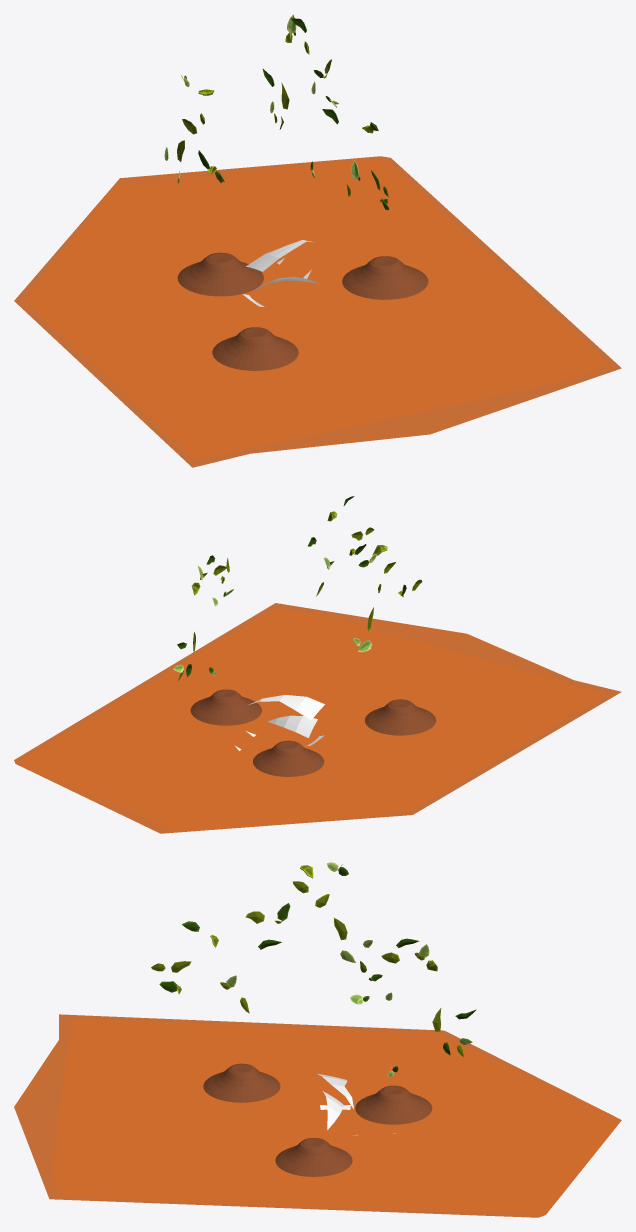
Rendered from progress.glb.
The picture shows the model from 3 angles, top to bottom: view 1: azimuth 30°, elevation 25°; view 2: azimuth 150°, elevation 25°; view 3: azimuth 270°, elevation 25°; orthographic projection. The views are drawn at different scales.
Visible parts, largest first — view 1: Plane, Sphere.002, Sphere, Sphere.001; view 2: Plane, Sphere.002, Sphere, Sphere.001, Plane.007, Plane.008; view 3: Plane, Sphere.001, Sphere.002, Sphere.
Boxes of the visible parts, x1,y1,x2,y2 form: Plane: (14,156,621,467); Sphere.002: (212,327,298,370); Sphere: (342,256,428,299); Sphere.001: (177,252,263,296); Plane: (14,603,621,833); Sphere.002: (365,699,436,735); Sphere: (190,689,261,725); Sphere.001: (253,740,324,776); Plane.007: (248,695,324,720); Plane.008: (267,715,317,737); Plane: (14,1014,621,1217); Sphere.001: (355,1085,432,1124); Sphere.002: (203,1063,280,1102); Sphere: (275,1138,352,1176).
Size of the model in its own units: 4.44 by 2.29 by 5.6.
7 materials, 1 textured.
